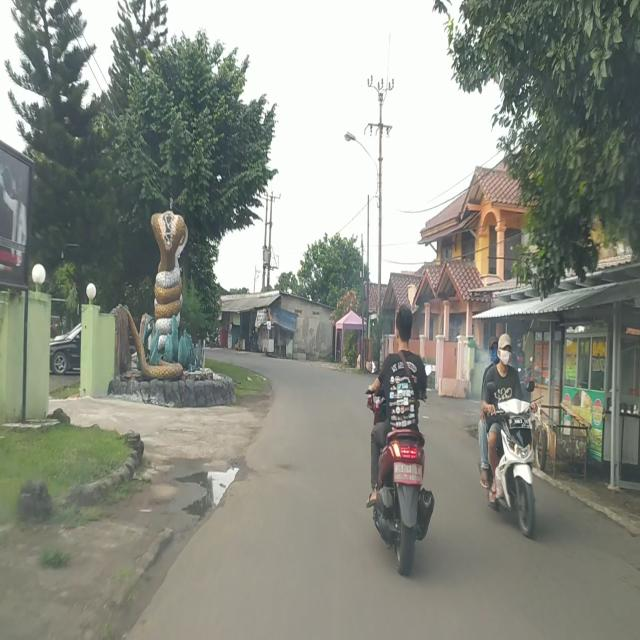Drain Hole: (277, 460, 297, 472)
